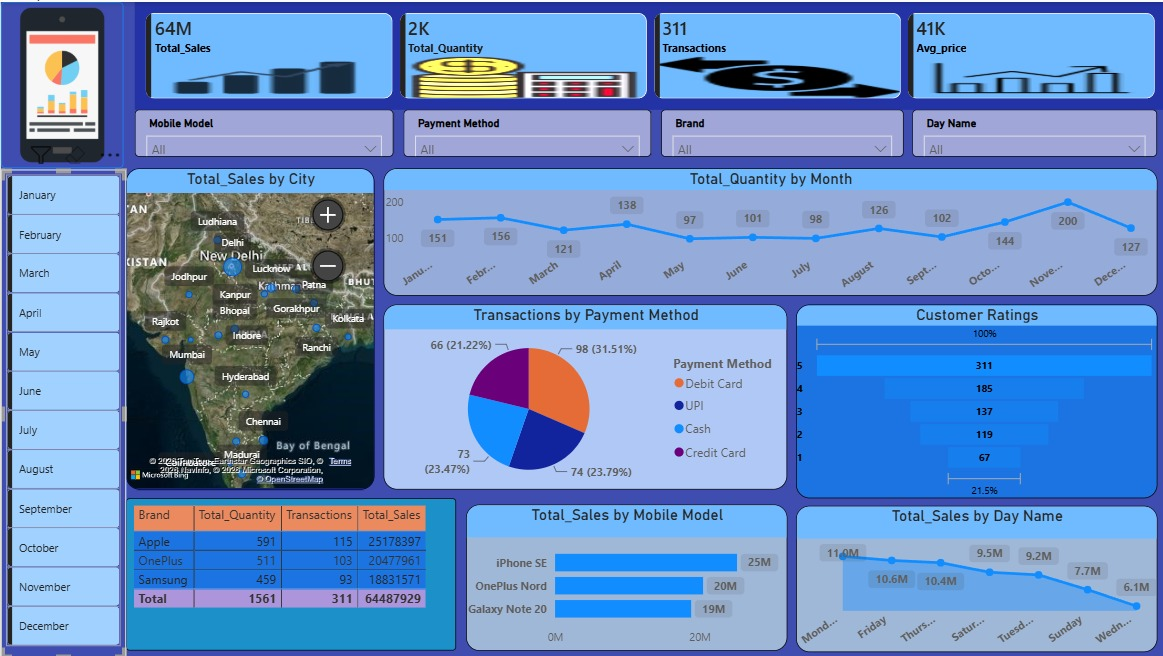

What the dashboard file says about the page in this screenshot:
{"tool":"powerbi","page":{"name":"Page 1","canvas":[1280,720],"ordinal":0},"visuals":[{"type":"image","box":[0,0,134.5,182.5],"z":0},{"type":"advancedSlicerVisual","fields":{"Values":["Sales_data.Date.Variation.Date Hierarchy.Month"]},"box":[0,183.9,137.2,536.5],"z":1000},{"type":"cardVisual","fields":{"Data":["Sales_data.Total_Sales","Sales_data.Total_Quantity","Sales_data.Transactions","Sales_data.Avg_price"]},"box":[146.8,0,1133.5,118],"z":2000},{"type":"map","fields":{"Category":["Sales_data.City"],"Size":["Sales_data.Total_Sales"]},"box":[137.2,182.5,273.1,352.7],"z":3000},{"type":"lineChart","fields":{"Category":["Sales_data.Date.Variation.Date Hierarchy.Month","Sales_data.Date.Variation.Date Hierarchy.Day"],"Y":["Sales_data.Total_Quantity"]},"box":[419.9,182.5,849.4,140],"z":4000},{"type":"clusteredBarChart","fields":{"Category":["Sales_data.Mobile Model"],"Y":["Sales_data.Total_Sales"]},"box":[510.5,551.6,352.7,160.5],"z":5000},{"type":"pieChart","fields":{"Category":["Sales_data.Payment Method"],"Y":["Sales_data.Transactions"]},"box":[419.9,332.1,443.2,203.1],"z":6000},{"type":"funnel","title":"Customer Ratings ","fields":{"Y":["CountNonNull(Sales_data.Customer Ratings)"],"Category":["Sales_data.Customer Ratings"]},"box":[872.7,332.1,396.6,212.7],"z":7000},{"type":"areaChart","fields":{"Category":["Sales_data.Day Name"],"Y":["Sales_data.Total_Sales"]},"box":[872.7,553,396.6,160.5],"z":8000},{"type":"tableEx","fields":{"Values":["Sales_data.Brand","Sales_data.Total_Quantity","Sales_data.Transactions","Sales_data.Total_Sales"]},"box":[137.2,544.8,362.3,167.4],"z":9000},{"type":"slicer","fields":{"Values":["Sales_data.Mobile Model"]},"box":[146.8,118,284,52.1],"z":9001},{"type":"slicer","fields":{"Values":["Sales_data.Payment Method"]},"box":[441.9,118,271.7,52.1],"z":9002},{"type":"slicer","fields":{"Values":["Sales_data.Brand"]},"box":[724.5,118,266.2,52.1],"z":9003},{"type":"slicer","fields":{"Values":["Sales_data.Day Name"]},"box":[1000.3,118,269,52.1],"z":9004}]}

Visuals, with their boxes in screenshot pixels (x1, y1, x2, y2), scaled from the page's 1280x720 canvas onto the 1163x656 screenshot:
image: (0,0,122,166)
advancedSlicerVisual - Sales_data.Date.Variation.Date Hierarchy.Month: (0,168,125,655)
cardVisual - Sales_data.Total_Sales x Sales_data.Total_Quantity: (133,0,1162,108)
map - Sales_data.City x Sales_data.Total_Sales: (125,166,373,488)
lineChart - Sales_data.Date.Variation.Date Hierarchy.Month x Sales_data.Date.Variation.Date Hierarchy.Day: (382,166,1153,294)
clusteredBarChart - Sales_data.Mobile Model x Sales_data.Total_Sales: (464,503,784,649)
pieChart - Sales_data.Payment Method x Sales_data.Transactions: (382,303,784,488)
"Customer Ratings " funnel: (793,303,1153,496)
areaChart - Sales_data.Day Name x Sales_data.Total_Sales: (793,504,1153,650)
tableEx - Sales_data.Brand x Sales_data.Total_Quantity: (125,496,454,649)
slicer - Sales_data.Mobile Model: (133,108,391,155)
slicer - Sales_data.Payment Method: (402,108,648,155)
slicer - Sales_data.Brand: (658,108,900,155)
slicer - Sales_data.Day Name: (909,108,1153,155)
